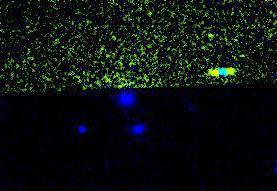star: (196, 21, 226, 51)
